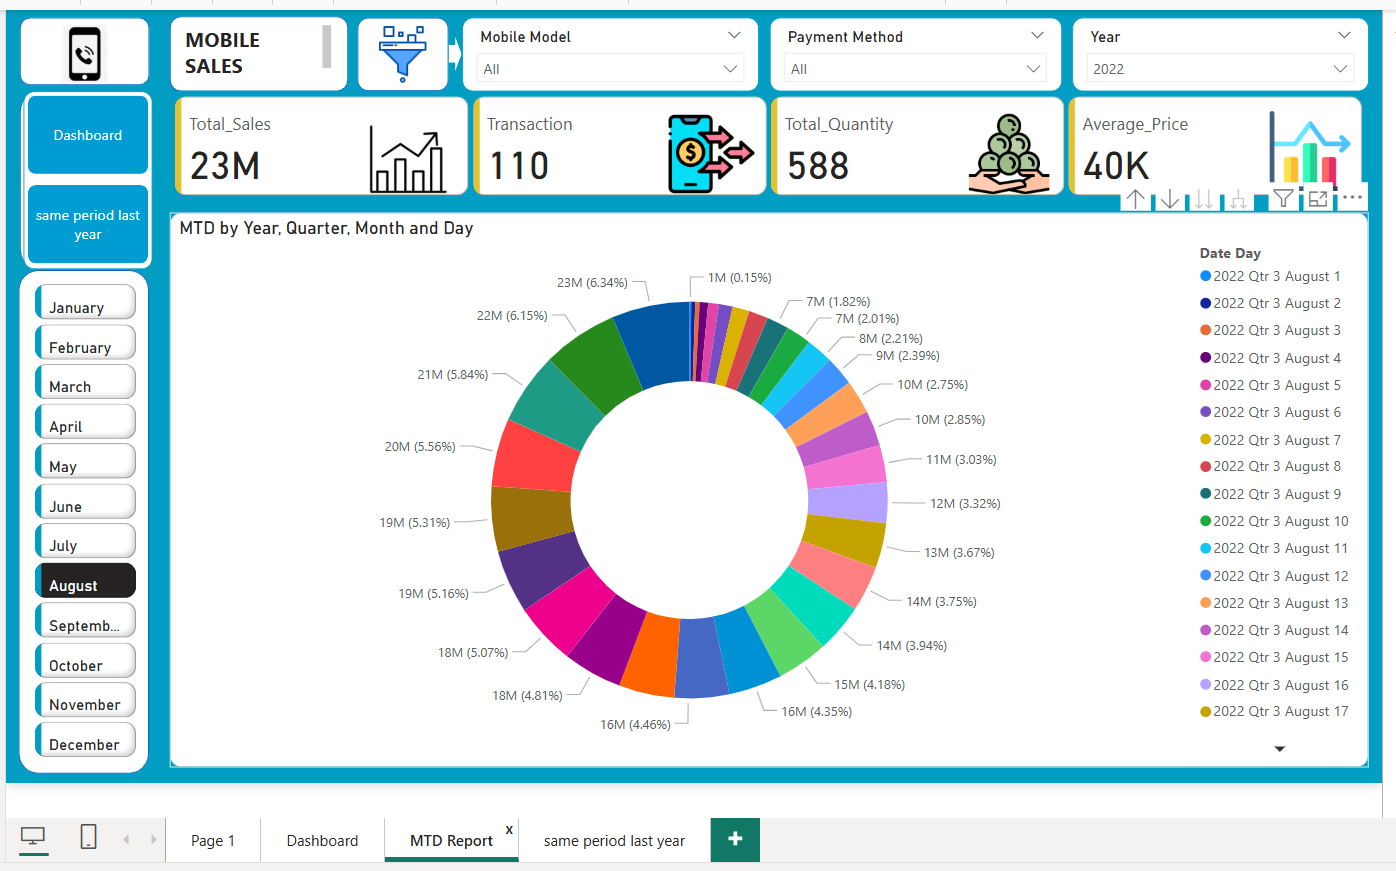

Layout of this report page (visuals, bound fields, positions):
{"tool":"powerbi","page":{"name":"MTD Report","canvas":[1280,720],"ordinal":2},"visuals":[{"type":"shape","box":[12.3,6.9,120.8,63.1],"z":0},{"type":"image","box":[37,9.6,71.4,63.1],"z":1000},{"type":"shape","box":[12.3,75.5,123.5,166],"z":2000},{"type":"cardVisual","fields":{"Data":["mobile_sales_dataset.Total_Sales","mobile_sales_dataset.Transaction","mobile_sales_dataset.Total_Quantity","mobile_sales_dataset.Average_Price"]},"box":[152.3,75.5,1115.6,102.9],"z":3000},{"type":"slicer","fields":{"Values":["mobile_sales_dataset.Mobile Model"]},"box":[424,6.9,275.8,68.6],"z":4000},{"type":"slicer","fields":{"Values":["mobile_sales_dataset.Payment Method"]},"box":[710.8,6.9,271.7,68.6],"z":5000},{"type":"slicer","fields":{"Values":["custom_calender.Date.Variation.Date Hierarchy.Year"]},"box":[992.1,6.9,275.8,68.6],"z":6000},{"type":"shape","box":[326.6,6.9,85.1,68.6],"z":7000},{"type":"image","box":[318.4,9.6,101.5,64.5],"z":8000},{"type":"shape","box":[411.7,24.7,12.3,32.9],"z":9000},{"type":"shape","box":[152.3,5.5,166,70],"z":10000},{"type":"shape","box":[11.4,241.4,121.4,468.6],"z":11000},{"type":"textbox","box":[161.9,9.6,145.5,64.5],"z":12000},{"type":"donutChart","fields":{"Category":["custom_calender.Date.Variation.Date Hierarchy.Year","custom_calender.Date.Variation.Date Hierarchy.Quarter","custom_calender.Date.Variation.Date Hierarchy.Month","custom_calender.Date.Variation.Date Hierarchy.Day"],"Y":["mobile_sales_dataset.MTD"]},"box":[152.3,188.4,1115.1,516.3],"z":14000},{"type":"pageNavigator","box":[15.7,75.7,120,165.7],"z":15000},{"type":"advancedSlicerVisual","fields":{"Values":["custom_calender.Date.Variation.Date Hierarchy.Month"]},"box":[22,249.7,104.3,455.6],"z":16000}]}

Visuals, with their boxes on the page's 1280x720 design canvas (x1, y1, x2, y2). These are canvas units, not pixel positions in the 1396x871 screenshot, which may show the page scaled, cropped or inside an application window:
shape: {"x1": 12, "y1": 7, "x2": 133, "y2": 70}
image: {"x1": 37, "y1": 10, "x2": 108, "y2": 73}
shape: {"x1": 12, "y1": 76, "x2": 136, "y2": 242}
cardVisual - mobile_sales_dataset.Total_Sales x mobile_sales_dataset.Transaction: {"x1": 152, "y1": 76, "x2": 1268, "y2": 178}
slicer - mobile_sales_dataset.Mobile Model: {"x1": 424, "y1": 7, "x2": 700, "y2": 76}
slicer - mobile_sales_dataset.Payment Method: {"x1": 711, "y1": 7, "x2": 982, "y2": 76}
slicer - custom_calender.Date.Variation.Date Hierarchy.Year: {"x1": 992, "y1": 7, "x2": 1268, "y2": 76}
shape: {"x1": 327, "y1": 7, "x2": 412, "y2": 76}
image: {"x1": 318, "y1": 10, "x2": 420, "y2": 74}
shape: {"x1": 412, "y1": 25, "x2": 424, "y2": 58}
shape: {"x1": 152, "y1": 6, "x2": 318, "y2": 76}
shape: {"x1": 11, "y1": 241, "x2": 133, "y2": 710}
textbox: {"x1": 162, "y1": 10, "x2": 307, "y2": 74}
donutChart - custom_calender.Date.Variation.Date Hierarchy.Year x custom_calender.Date.Variation.Date Hierarchy.Quarter: {"x1": 152, "y1": 188, "x2": 1267, "y2": 705}
pageNavigator: {"x1": 16, "y1": 76, "x2": 136, "y2": 241}
advancedSlicerVisual - custom_calender.Date.Variation.Date Hierarchy.Month: {"x1": 22, "y1": 250, "x2": 126, "y2": 705}
